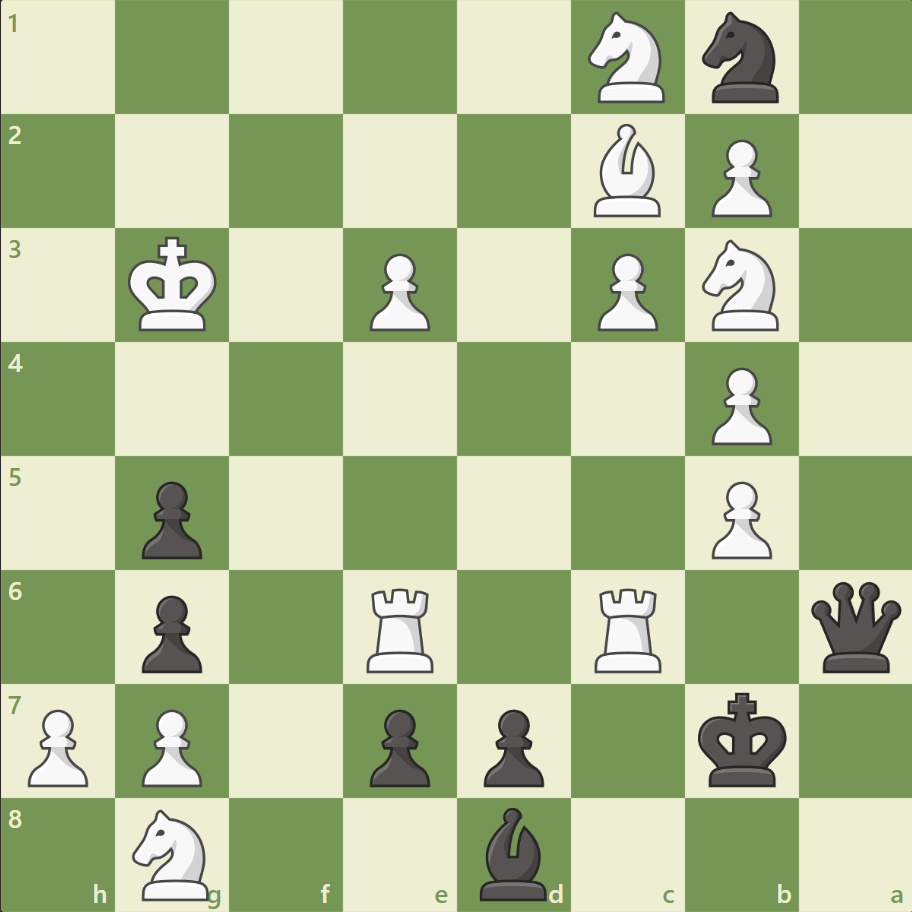B: (585, 120, 669, 222)
K: (124, 231, 224, 339)
N: (124, 802, 222, 904), (692, 234, 789, 337), (579, 7, 676, 110)
P: (133, 700, 208, 791), (20, 700, 95, 791), (701, 473, 776, 564), (701, 359, 776, 450), (701, 132, 776, 223), (588, 246, 662, 337), (361, 246, 435, 337)
R: (587, 579, 670, 676), (360, 579, 442, 676)
b: (471, 801, 555, 904)
k: (692, 685, 792, 793)
n: (692, 7, 789, 110)
p: (474, 700, 549, 791), (133, 586, 208, 677), (133, 473, 208, 564), (361, 700, 435, 791)
q: (805, 576, 904, 676)
